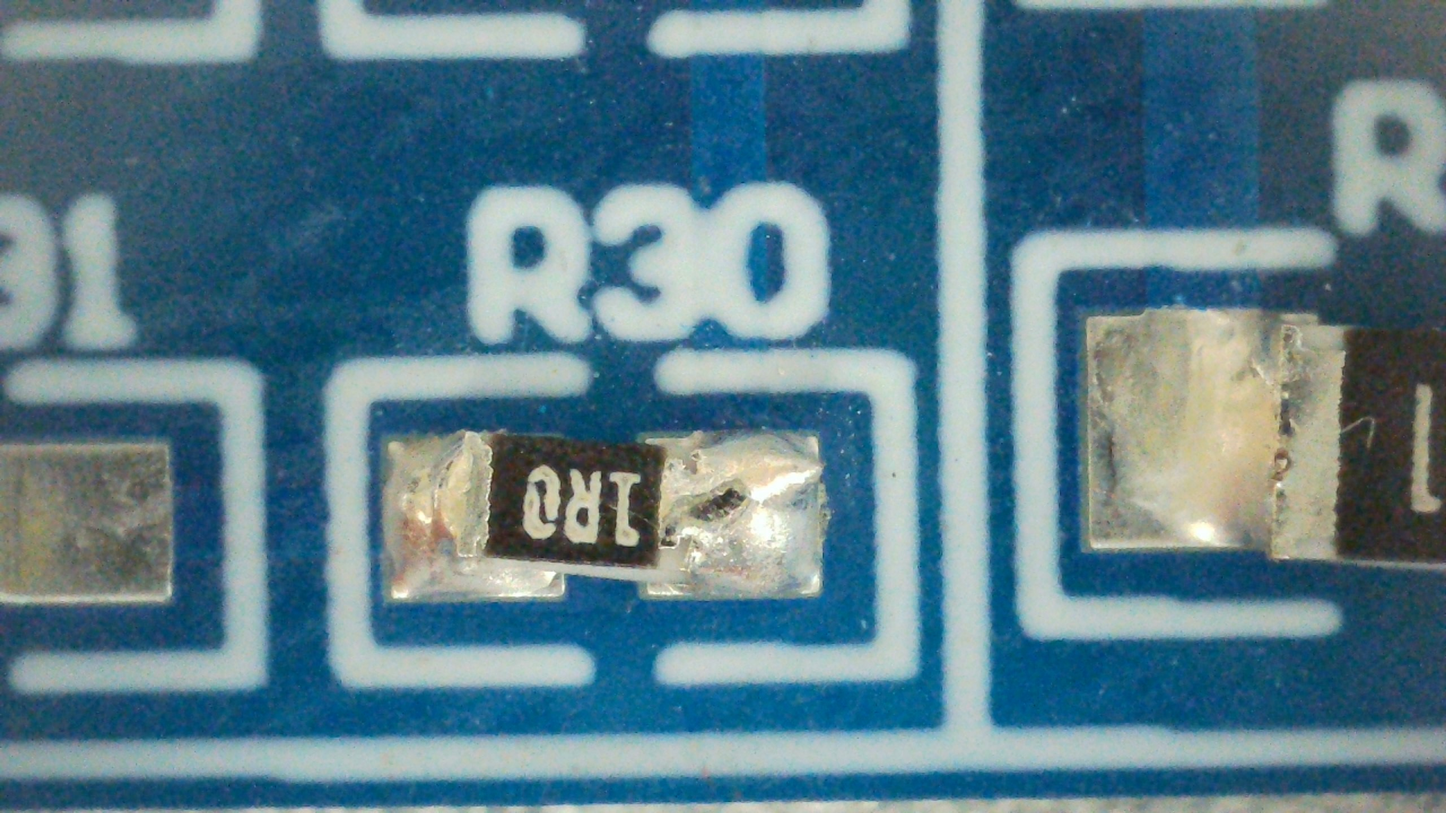NG: (386, 430, 823, 596)
